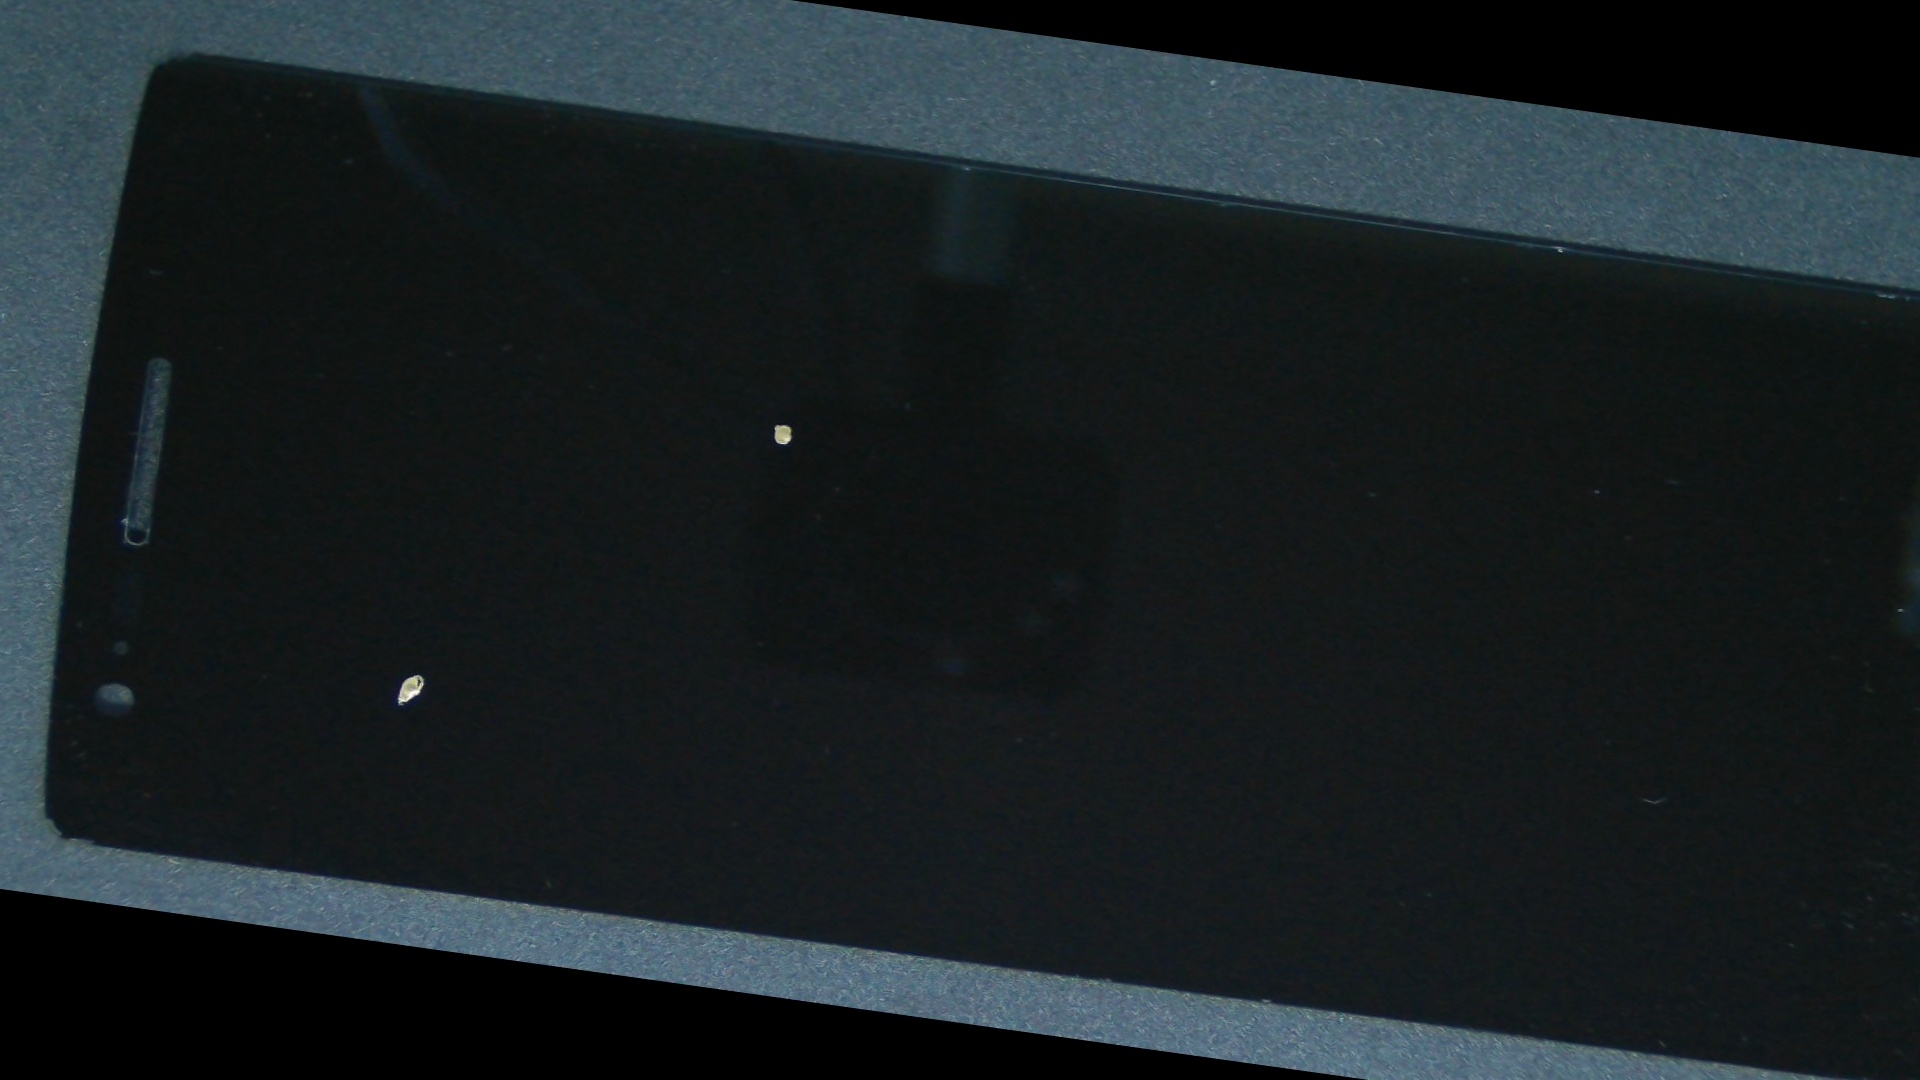oil: (905, 324, 1920, 1069), (340, 156, 1236, 687), (127, 281, 721, 977)
